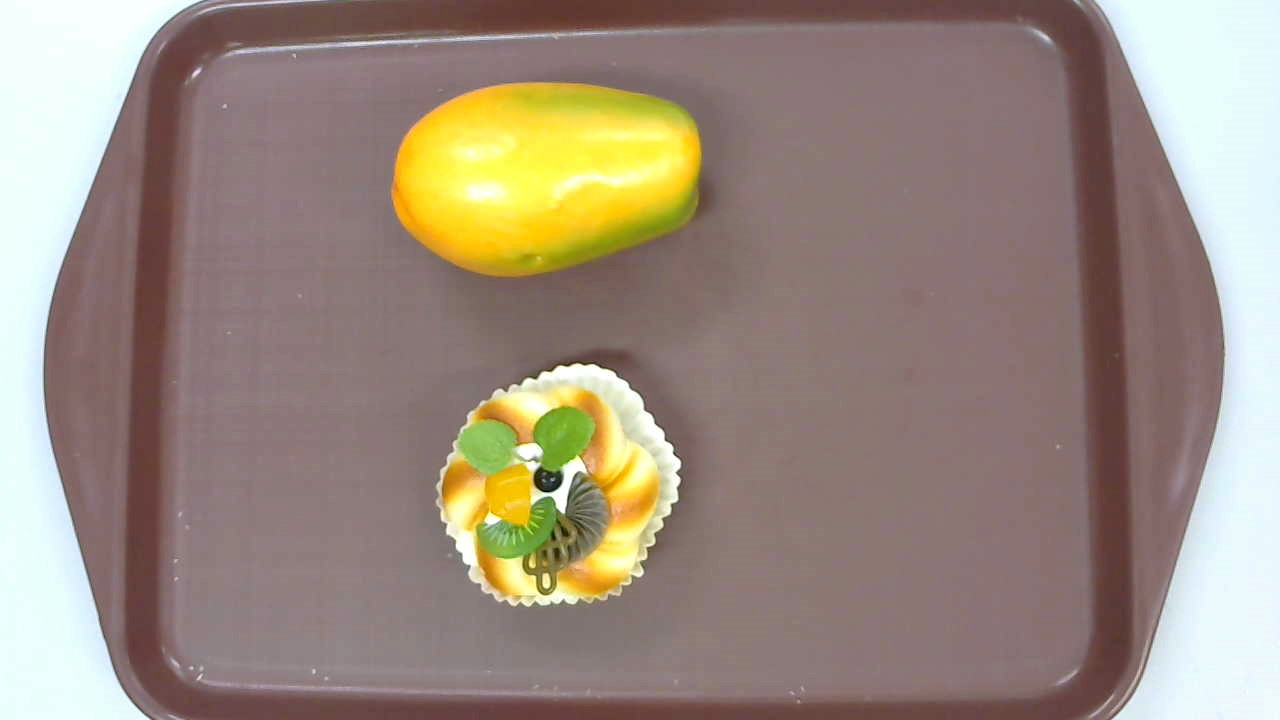fruit tart: (435, 363, 682, 609)
papya: (389, 81, 704, 278)
